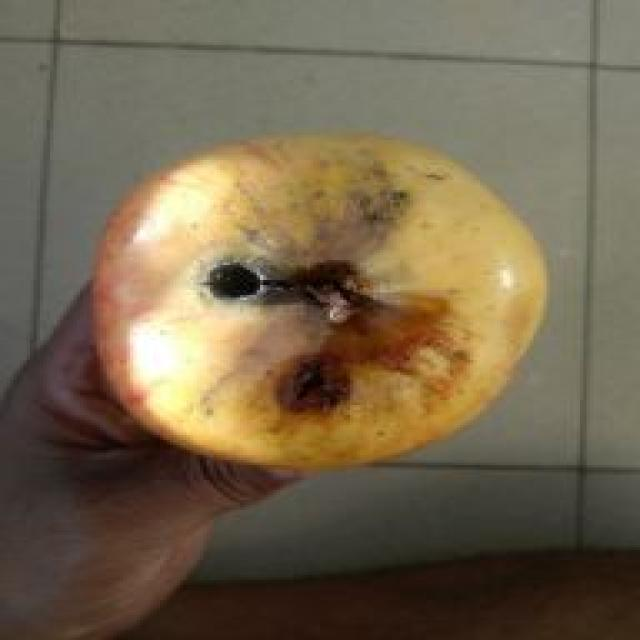Bad_Apple: (95, 132, 547, 469)
